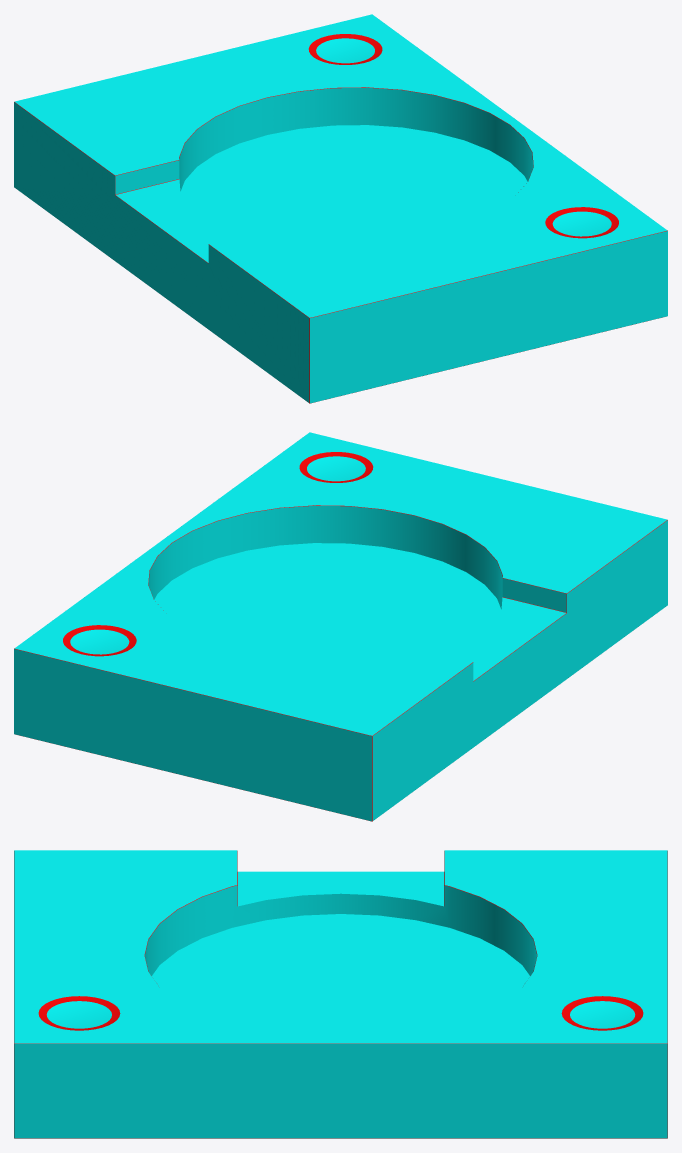
3 renders of one model, top to bottom at view 1: azimuth 30°, elevation 25°; view 2: azimuth 150°, elevation 25°; view 3: azimuth 270°, elevation 25°, orthographic. The views are drawn at different scales.
Visible parts, largest first — view 1: L15_PS1; view 2: L15_PS1; view 3: L15_PS1.
Part boxes in pixels (x1,y1,x2,y2): L15_PS1: (14,14,667,403); L15_PS1: (14,432,667,821); L15_PS1: (14,850,667,1138).
Bounding box in the file's own units: 7000 × 1600 × 10000.
